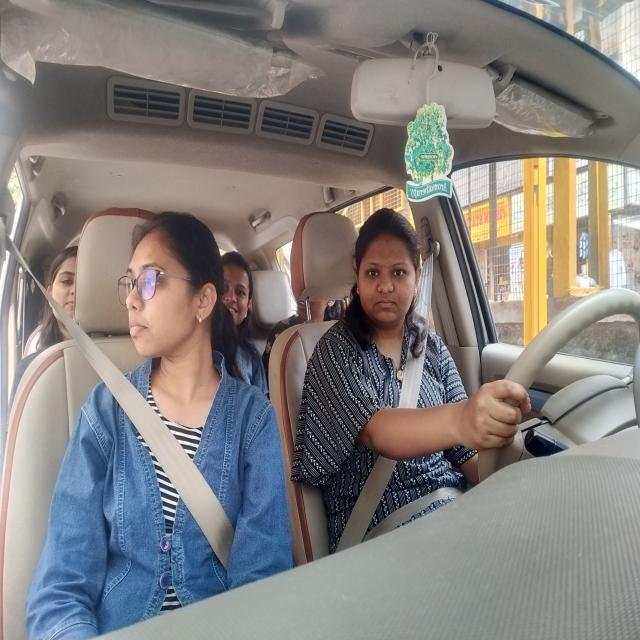person: (119, 206, 224, 373), (351, 204, 421, 331), (218, 231, 251, 335), (47, 246, 83, 340)
